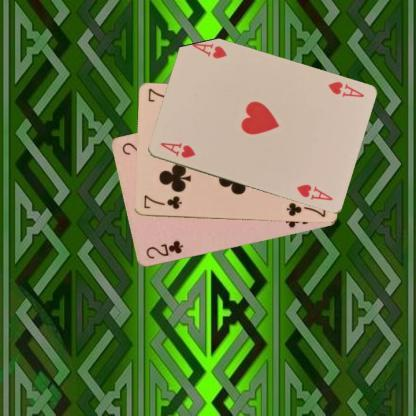2c: (144, 238, 184, 261)
7c: (141, 192, 183, 210)
Ah: (325, 78, 365, 98), (157, 140, 197, 159)
